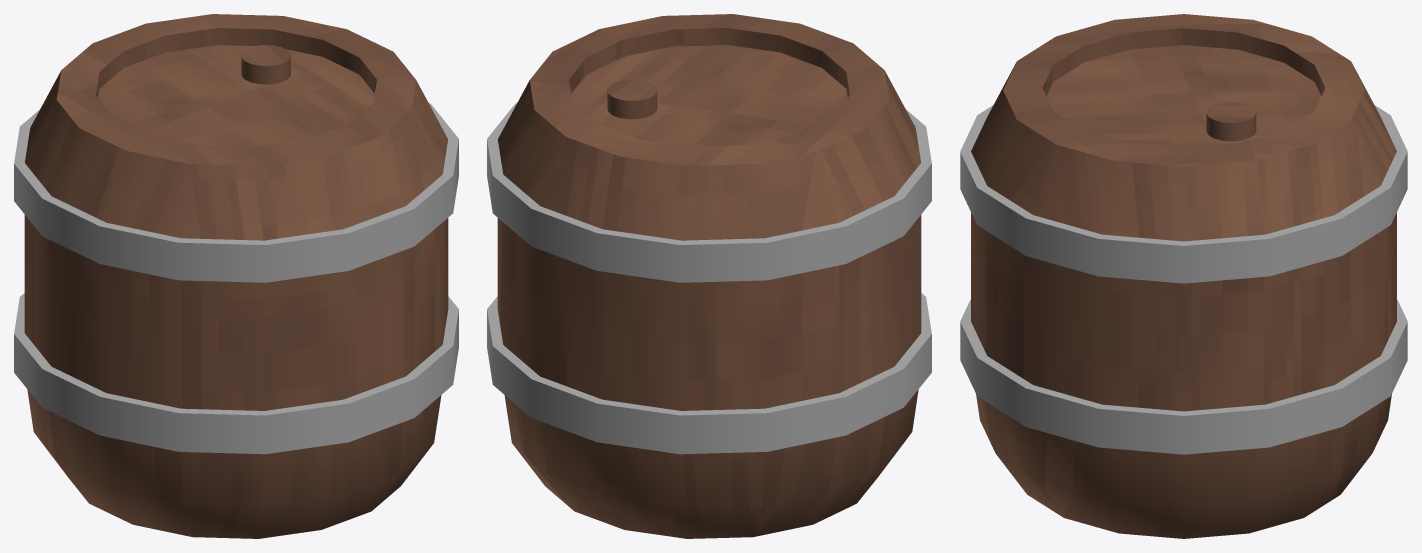
File: Mdl_Barrel.fbx
The picture shows the model from 3 angles, left to right: view 1: azimuth 30°, elevation 25°; view 2: azimuth 150°, elevation 25°; view 3: azimuth 270°, elevation 25°; orthographic projection.
Visible parts, largest first — view 1: barrel; view 2: barrel; view 3: barrel.
Boxes of the visible parts, x1,y1,x2,y2 form: barrel: (14, 14, 458, 538); barrel: (487, 14, 931, 538); barrel: (960, 14, 1407, 538).
Bounding box in the file's own units: 30.65 × 28.77 × 30.65.
Materials: 2 (1 with a texture image).
